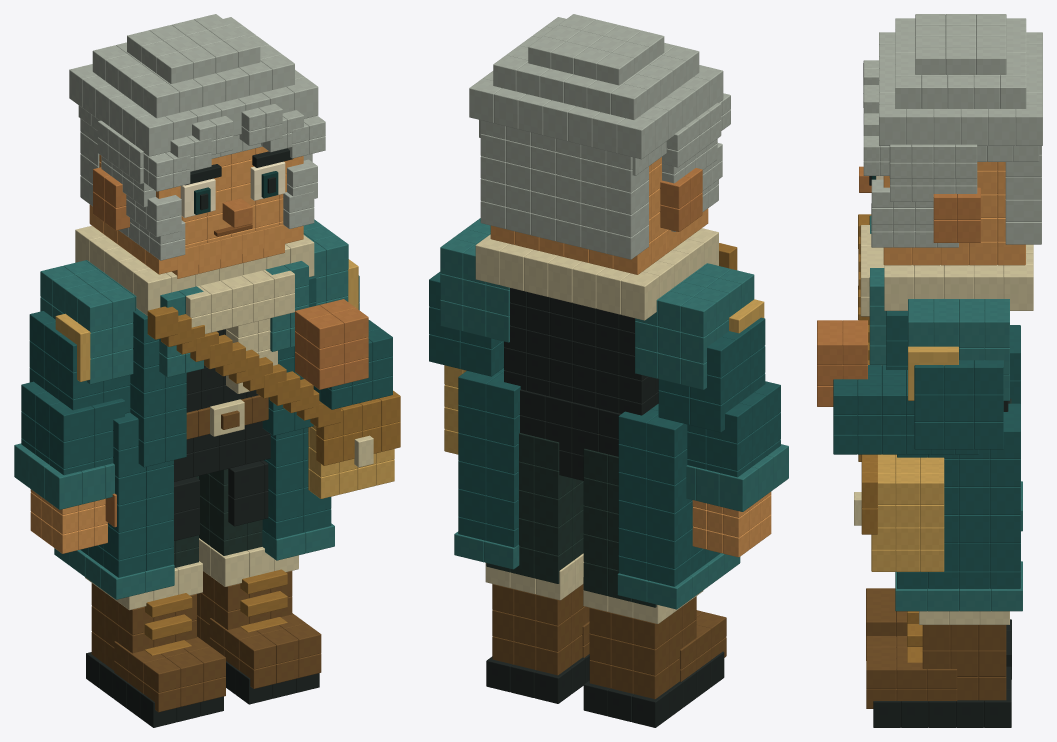
File: SM_Blender_RangerSela.glb
The picture shows the model from 3 angles, left to right: view 1: azimuth 30°, elevation 25°; view 2: azimuth 150°, elevation 25°; view 3: azimuth 270°, elevation 25°; orthographic projection. The views are drawn at different scales.
Visible parts, largest first — view 1: SM_Blender_RangerSela; view 2: SM_Blender_RangerSela; view 3: SM_Blender_RangerSela.
Part boxes in pixels (x1,y1,x2,y2): SM_Blender_RangerSela: (14, 14, 400, 727); SM_Blender_RangerSela: (429, 14, 788, 727); SM_Blender_RangerSela: (817, 14, 1042, 727).
Bounding box in the file's own units: 1.04 × 1.97 × 0.6198.
Materials: 1 (1 with a texture image).
